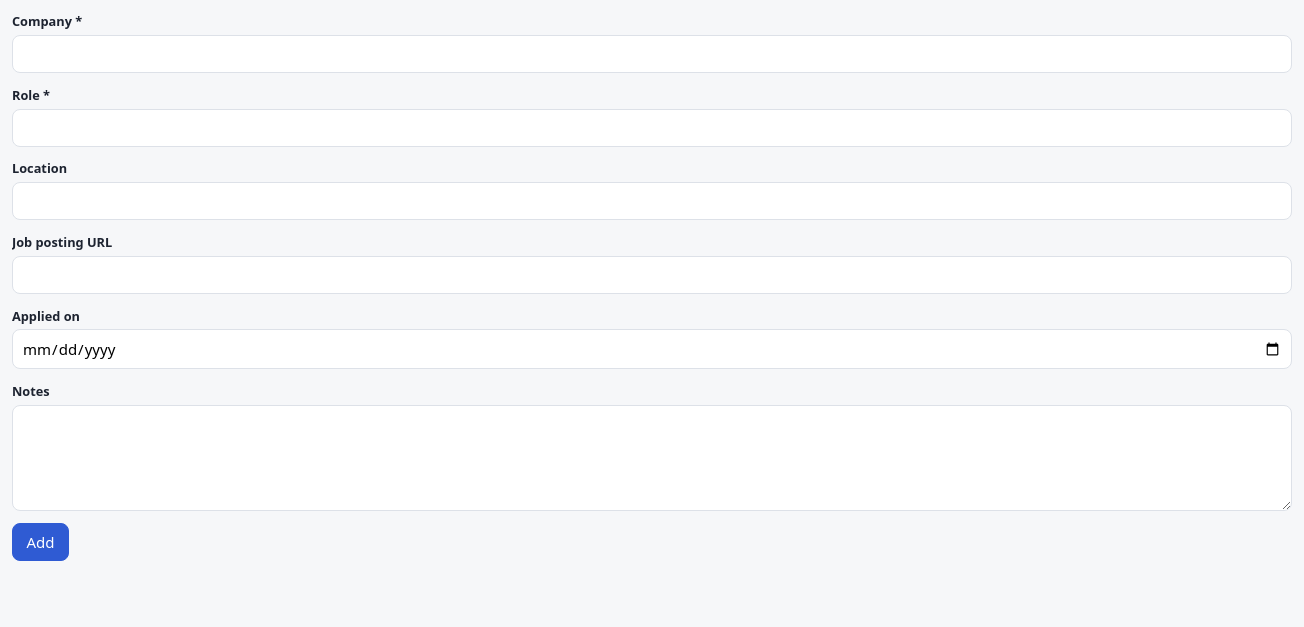
ApplicationForm › shows what is missing and does not submit
Click the button "Add": x=40, y=542 [12,523,69,561]
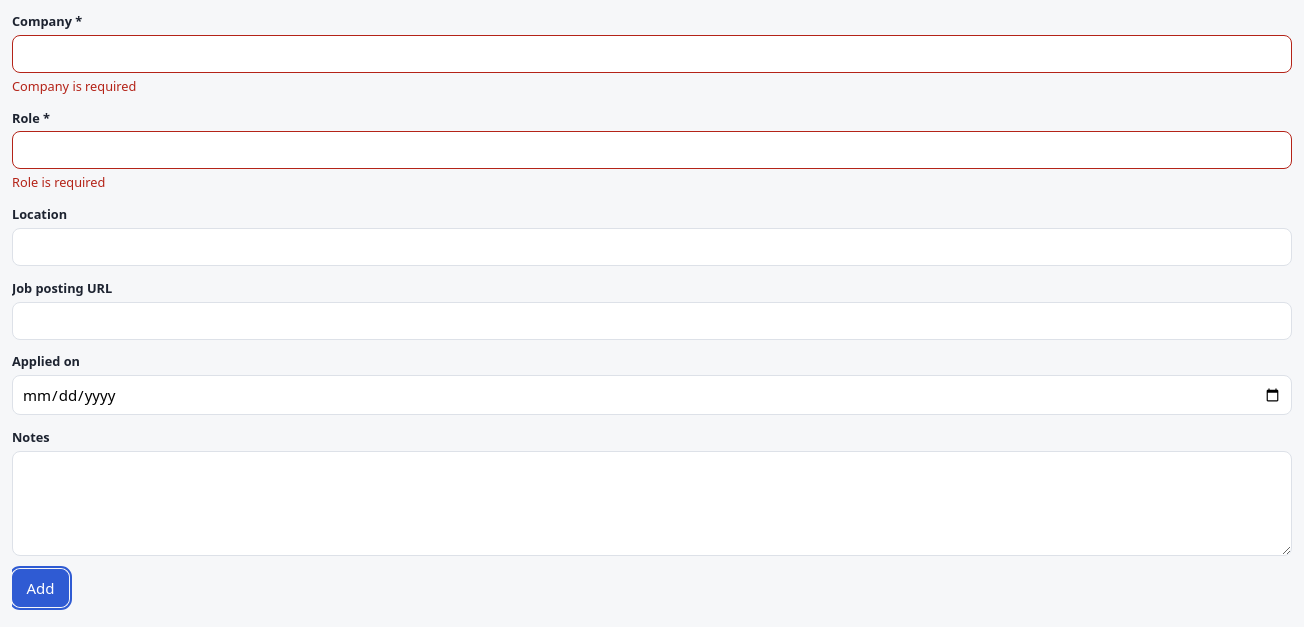
Expected: the text "Company is required" is shown, [12,77,136,95]
Expected: the text "Role is required" is shown, [12,173,105,191]
